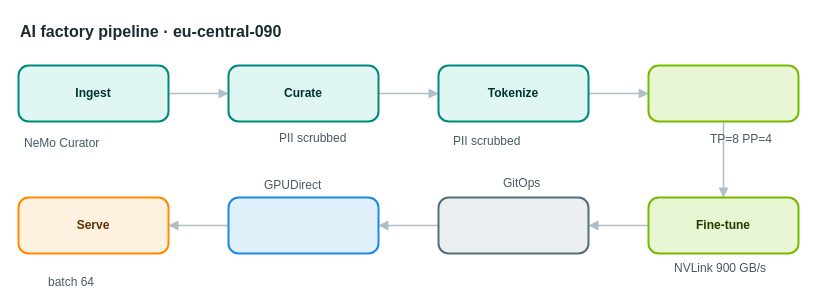
The diagram is 816 pixels wide and 307 high, and some of its shapes have lost their labels. The shapes that lost their labels are listed below. From the top down, each one's centre as x and y in pixels, then its label:
At point 723,93: "Pretrain".
At point 303,225: "Model registry".
At point 513,225: "Evaluate".
